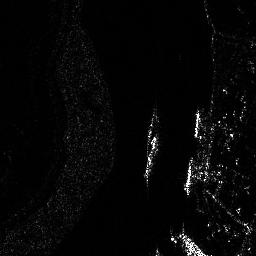ship: (142, 135, 159, 178), (178, 233, 209, 256), (182, 156, 194, 194), (193, 109, 203, 141)
